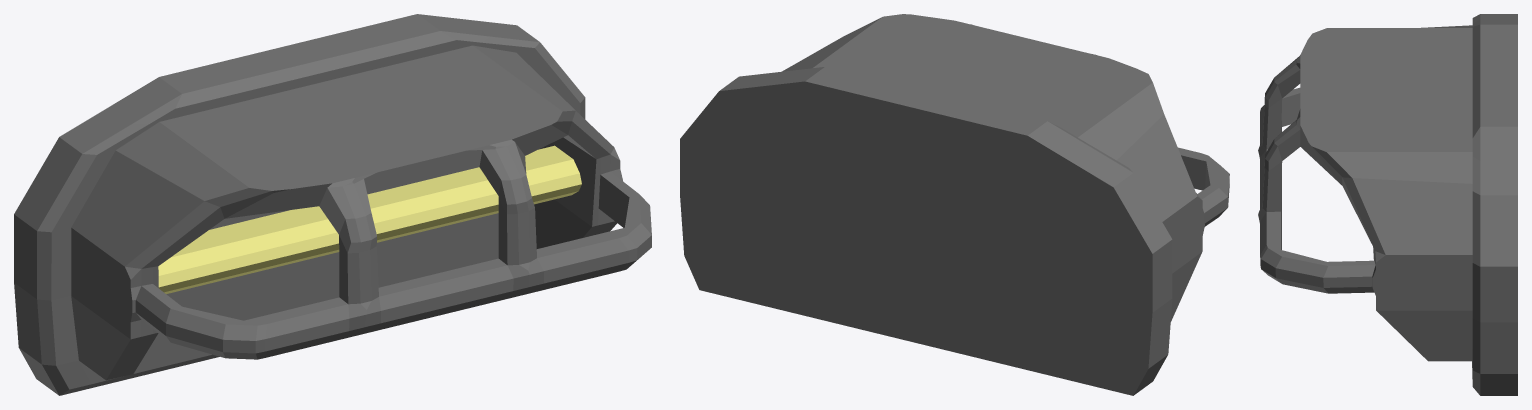
File: WallLight.fbx
The picture shows the model from 3 angles, left to right: view 1: azimuth 30°, elevation 25°; view 2: azimuth 150°, elevation 25°; view 3: azimuth 270°, elevation 25°; orthographic projection. The views are drawn at different scales.
Parts seen in each view (by area): view 1: Cube; view 2: Cube; view 3: Cube.
Boxes of the visible parts, bbox=[...] form: Cube: bbox=[14, 14, 651, 395]; Cube: bbox=[680, 14, 1229, 395]; Cube: bbox=[1258, 14, 1517, 395].
Bounding box in the file's own units: 84.34 × 40 × 42.68.
